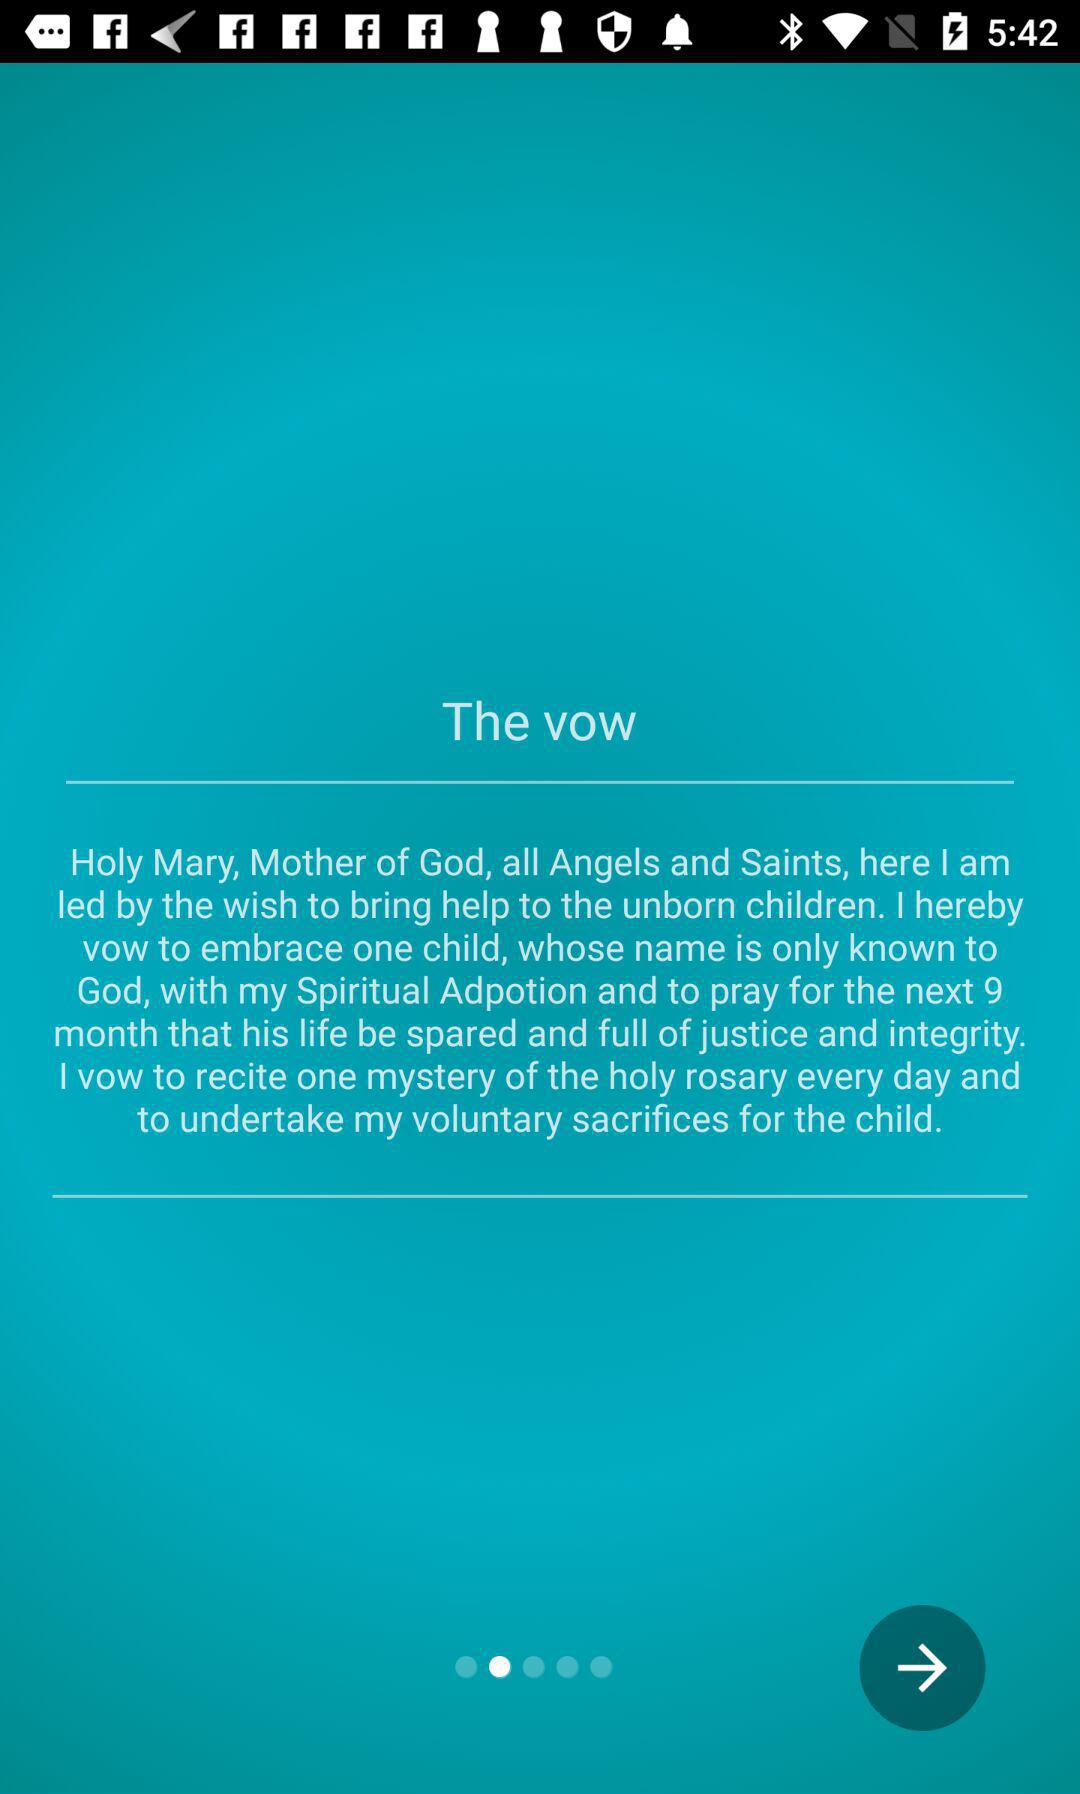Icon: (858, 1604, 986, 1732)
PageIndicator: (454, 1654, 616, 1683)
Text: (54, 846, 1026, 1143), (441, 700, 638, 743)
UpperTaskBar: (1, 1, 1080, 64)
